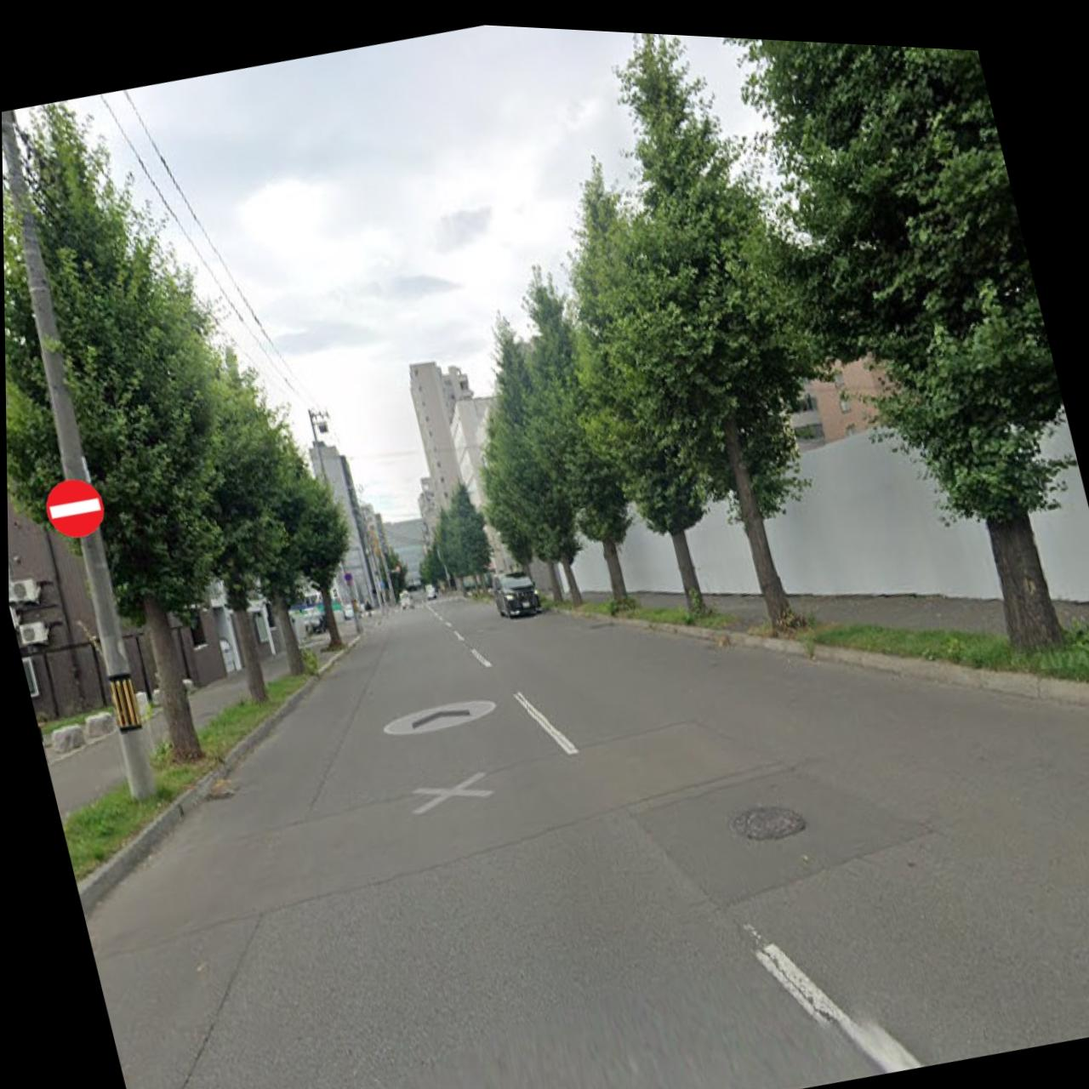barrier: (30, 467, 116, 551)
